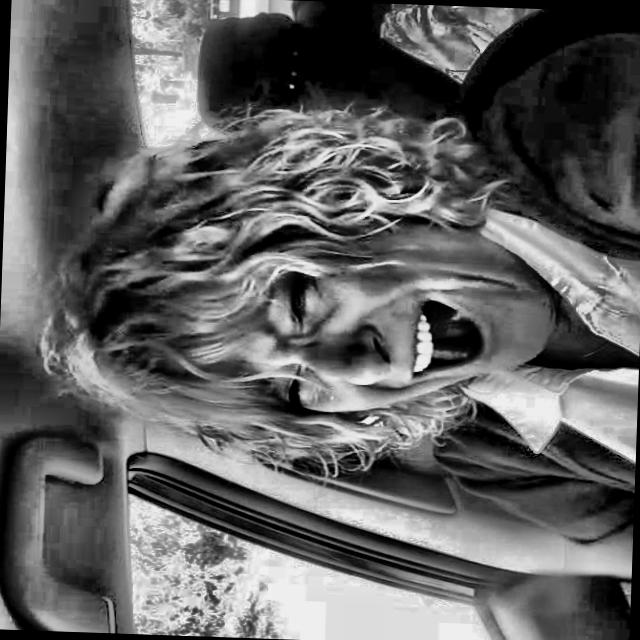closed_eyes: (268, 274, 326, 337), (268, 360, 325, 423)
open_mouth: (386, 283, 498, 397)
